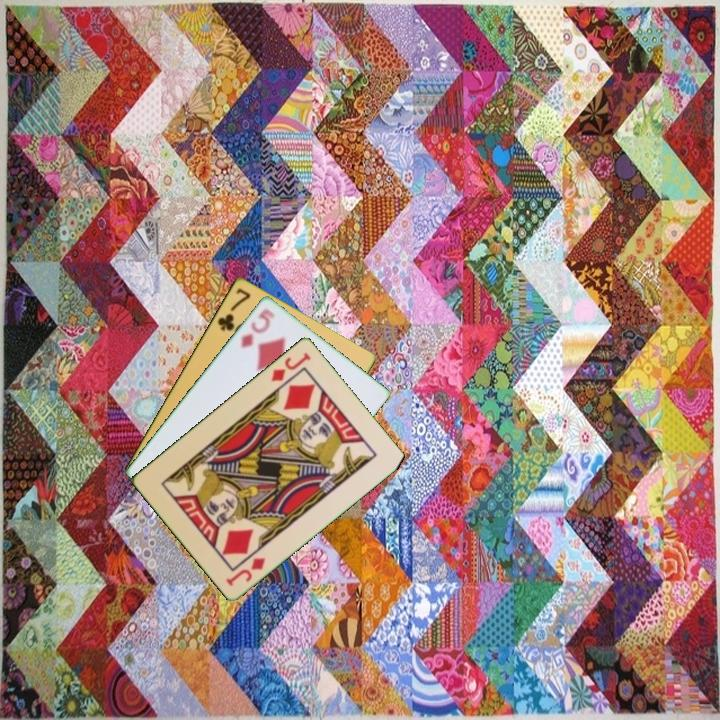5d: (237, 305, 278, 351)
7c: (214, 284, 253, 334)
Jd: (222, 553, 269, 589), (268, 349, 314, 384)
